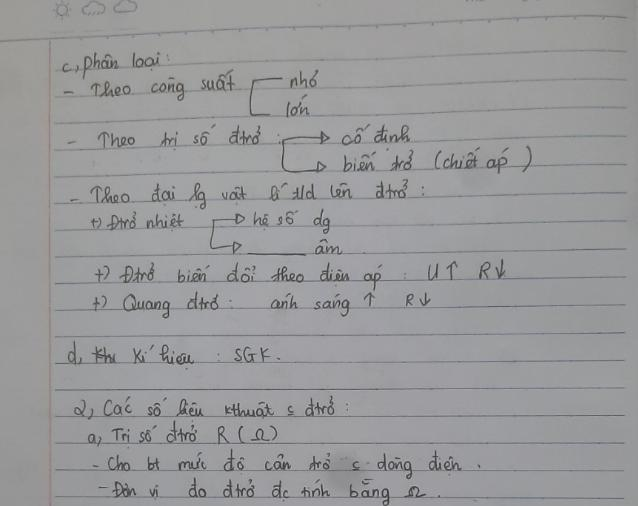text: (92, 256, 508, 294), (90, 446, 465, 483), (68, 175, 411, 214), (90, 288, 434, 322), (96, 477, 431, 506), (71, 392, 351, 424), (342, 140, 536, 179), (63, 339, 283, 370), (64, 117, 263, 151), (85, 417, 279, 451), (65, 66, 236, 104), (59, 47, 170, 83), (89, 209, 186, 237), (251, 204, 333, 235), (339, 120, 413, 151), (287, 66, 319, 91), (283, 92, 311, 119), (314, 236, 345, 258)
